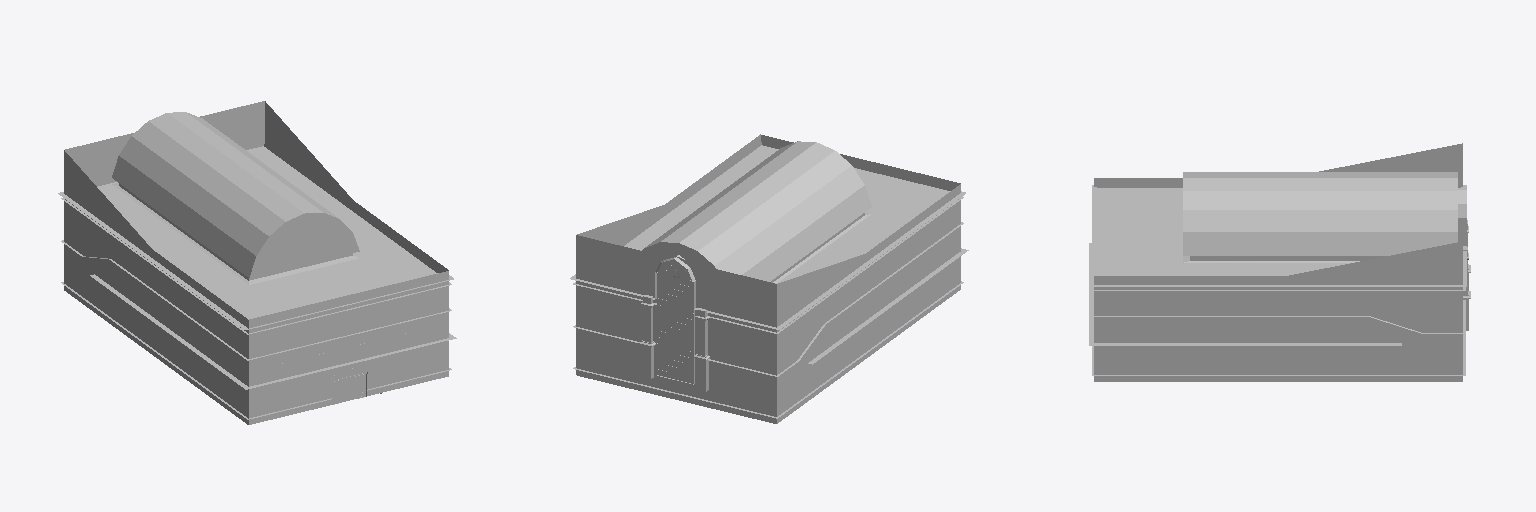
File: MainHall01.obj
3 views of the same model, side by side, from view 1: azimuth 30°, elevation 25°; view 2: azimuth 150°, elevation 25°; view 3: azimuth 270°, elevation 25° (orthographic).
Visible parts, largest first — view 1: Mesh_Main_Hall01; view 2: Mesh_Main_Hall01; view 3: Mesh_Main_Hall01.
Part boxes in pixels (x1,y1,x2,y2): Mesh_Main_Hall01: (58, 101, 456, 424); Mesh_Main_Hall01: (570, 134, 968, 423); Mesh_Main_Hall01: (1089, 143, 1470, 381).
Size of the model in its own units: 20.87 by 14.77 by 32.69.